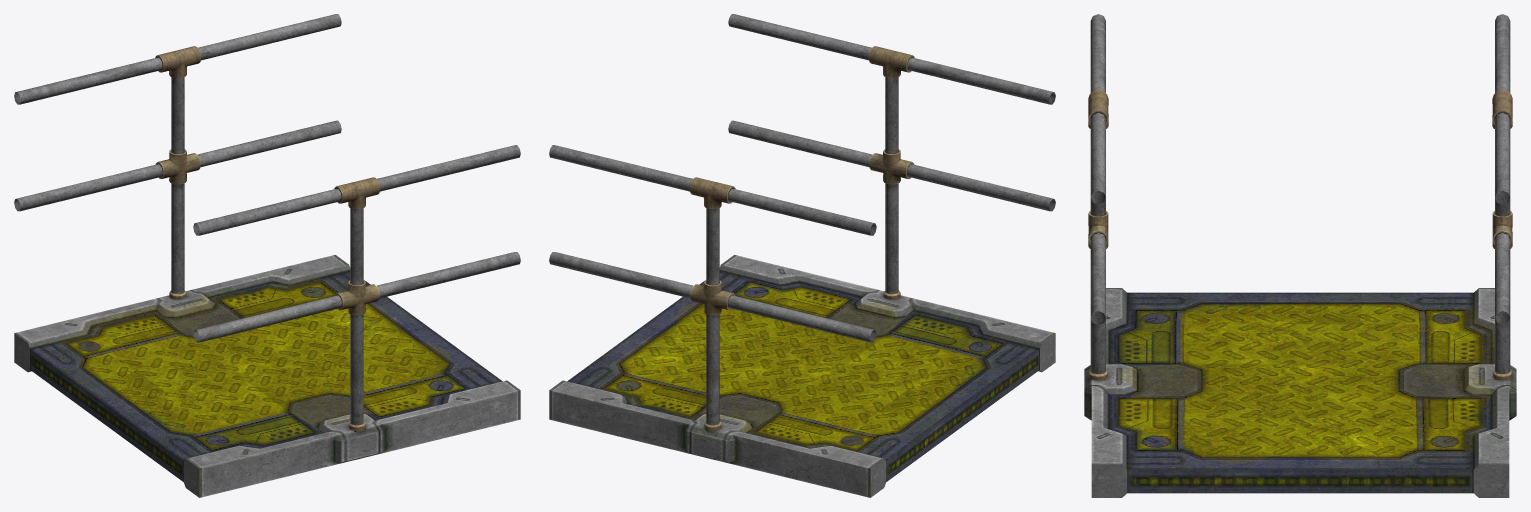
Rendered from catwalk_straight_short.dae.
3 renders of one model, left to right at view 1: azimuth 30°, elevation 25°; view 2: azimuth 150°, elevation 25°; view 3: azimuth 270°, elevation 25°, orthographic. The views are drawn at different scales.
Visible parts, largest first — view 1: straight_short, railing__5_; view 2: straight_short, railing__5_; view 3: straight_short, railing__5_.
Boxes of the visible parts, x1,y1,x2,y2 form: straight_short: (14, 255, 520, 497); railing__5_: (14, 14, 520, 431); straight_short: (549, 255, 1055, 497); railing__5_: (549, 14, 1055, 431); straight_short: (1084, 288, 1516, 497); railing__5_: (1088, 14, 1512, 380).
Size of the model in its own units: 2 by 1.63 by 2.07.
